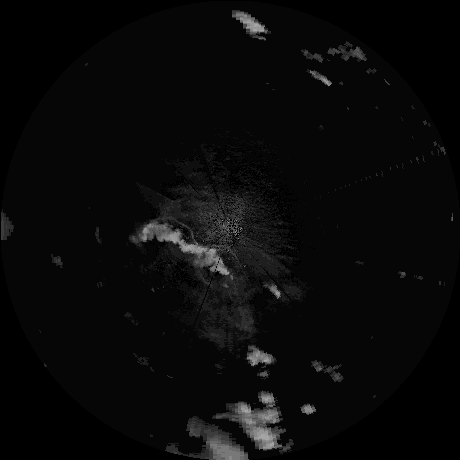frontgust: (149, 216, 195, 245), (197, 243, 239, 261)
